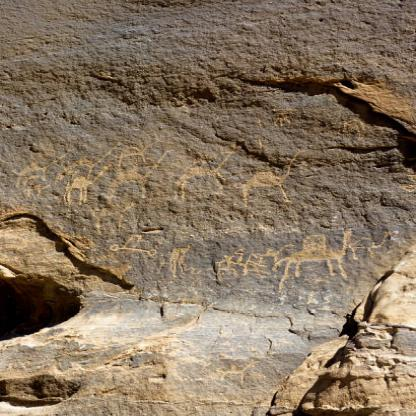Sedimentary_Sandstone: (6, 6, 415, 416)
